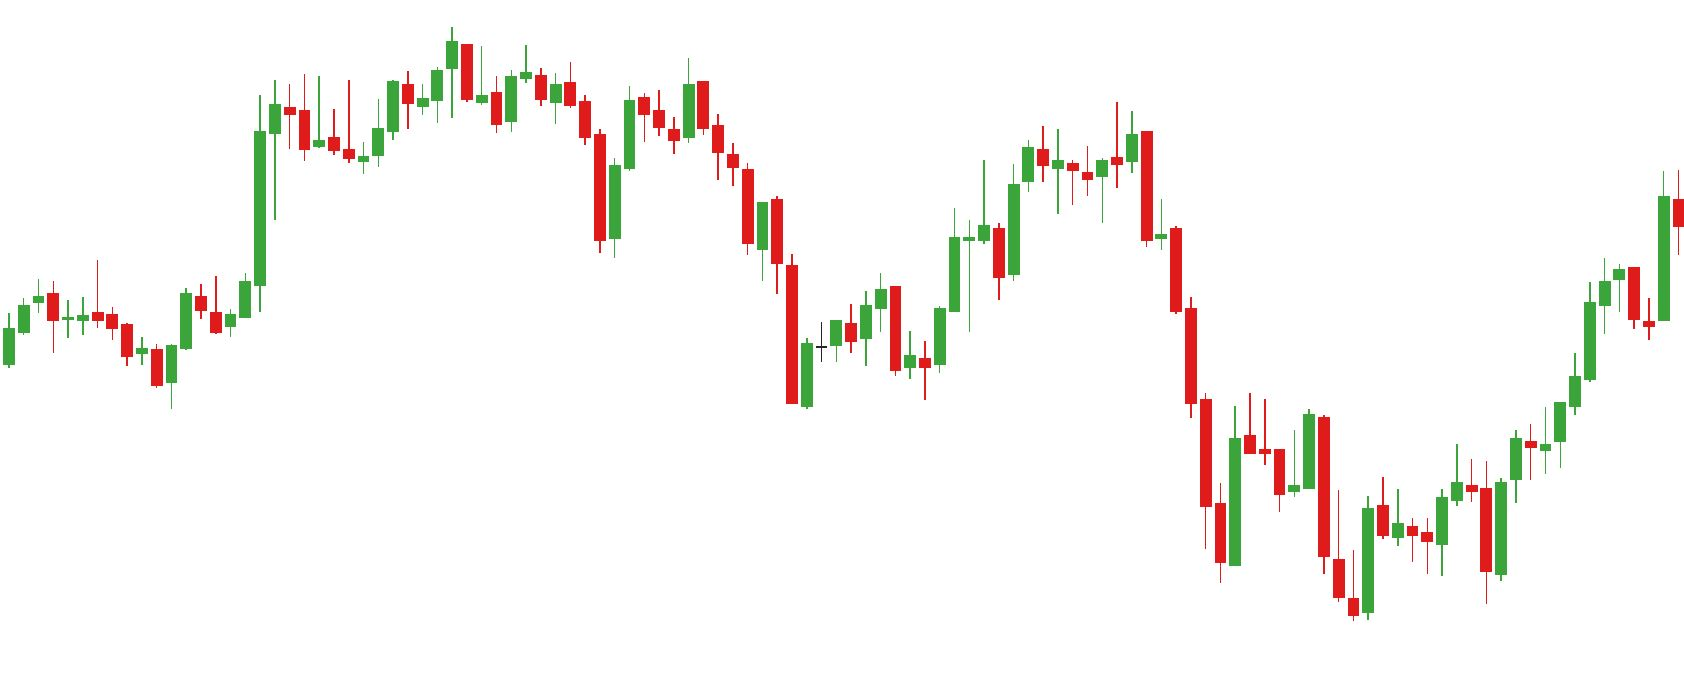buy: (1211, 473, 1380, 625), (1420, 507, 1510, 601)
sell: (1034, 104, 1124, 190)
